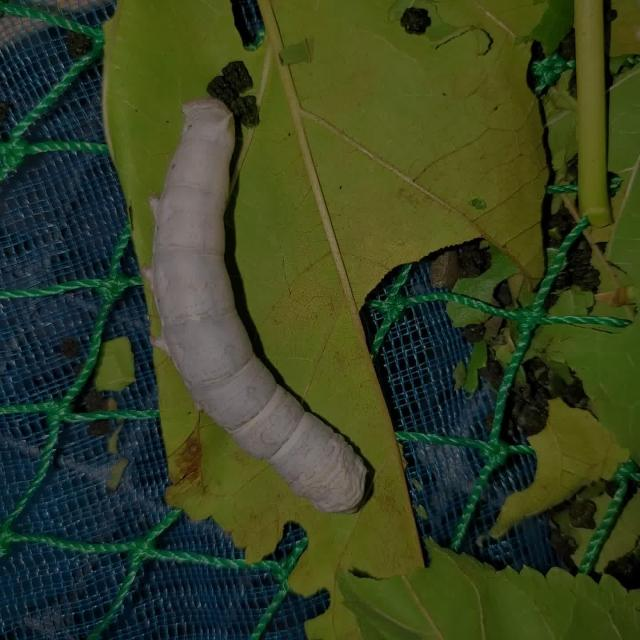Healthy: (122, 63, 406, 527)
